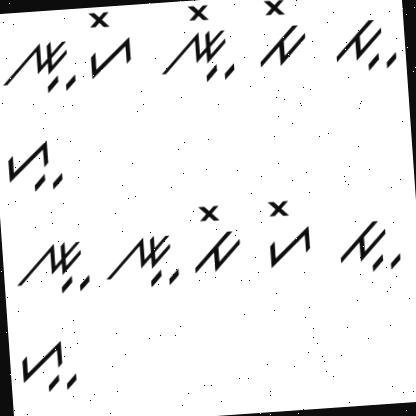hah: (2, 132, 70, 202), (16, 332, 82, 400)
ho: (82, 6, 141, 81), (260, 197, 316, 275)
mbah: (328, 8, 400, 80), (336, 214, 406, 288)
mbo: (248, 0, 311, 75), (188, 198, 247, 278)
ndah: (13, 231, 96, 304), (102, 225, 184, 294), (0, 34, 79, 100)
ndo: (155, 1, 239, 70)
